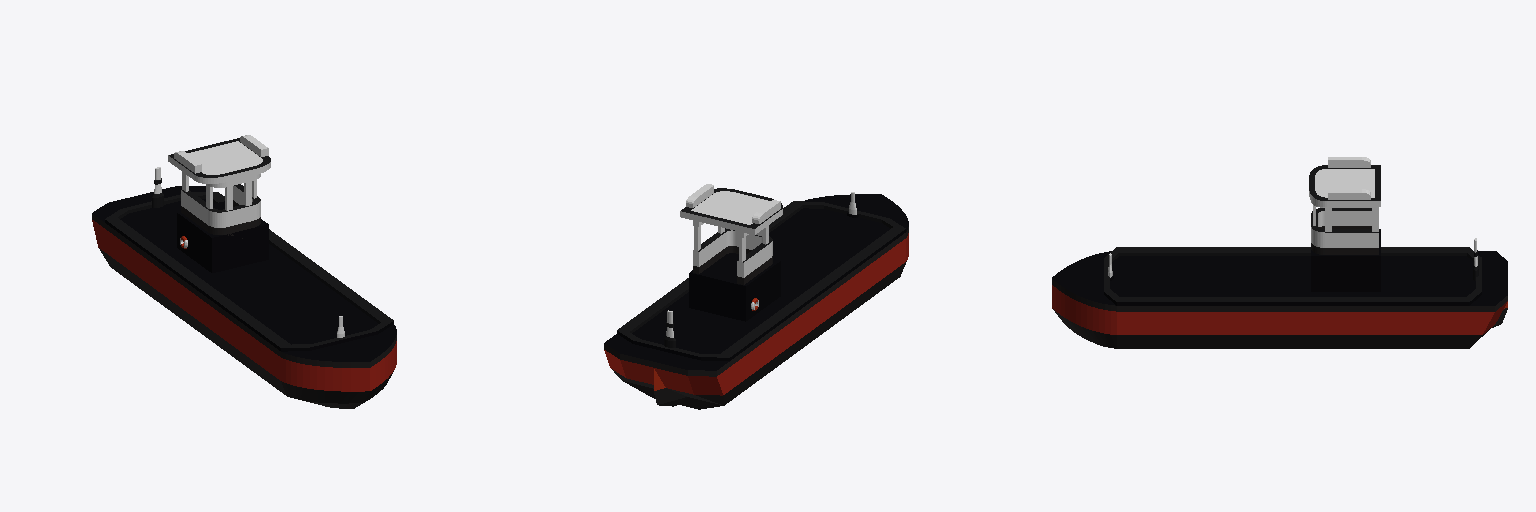
The model's file is Cargo-Ship3.obj.
3 views of the same model, side by side, from view 1: azimuth 30°, elevation 25°; view 2: azimuth 150°, elevation 25°; view 3: azimuth 270°, elevation 25° (orthographic).
Parts seen in each view (by area): view 1: mergedBlocks; view 2: mergedBlocks; view 3: mergedBlocks.
Boxes of the visible parts, box(x1,y1,x2,y2) form: mergedBlocks: box(92, 135, 396, 408); mergedBlocks: box(604, 184, 908, 409); mergedBlocks: box(1052, 157, 1507, 348).
Bounding box in the file's own units: 2 × 2.75 × 7.